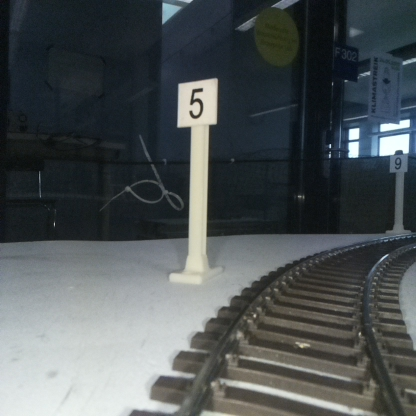white-info-5: (178, 80, 216, 281)
white-info-9: (390, 155, 407, 233)
